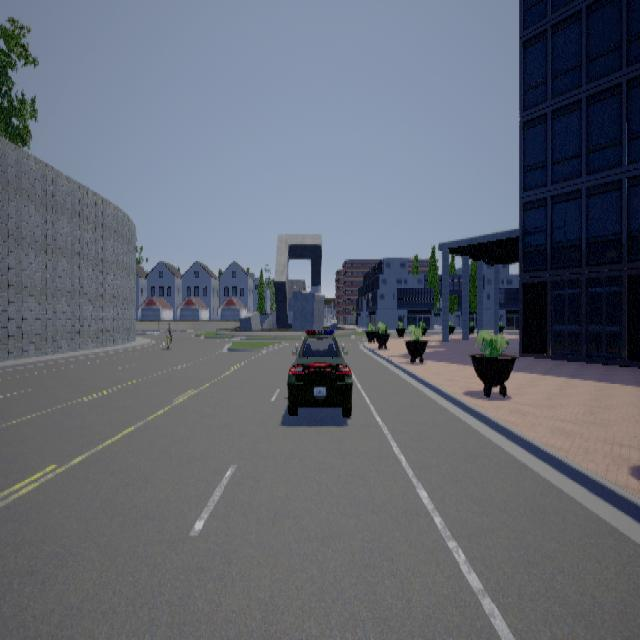bike: (162, 320, 173, 349)
vehicle: (286, 328, 352, 416)
